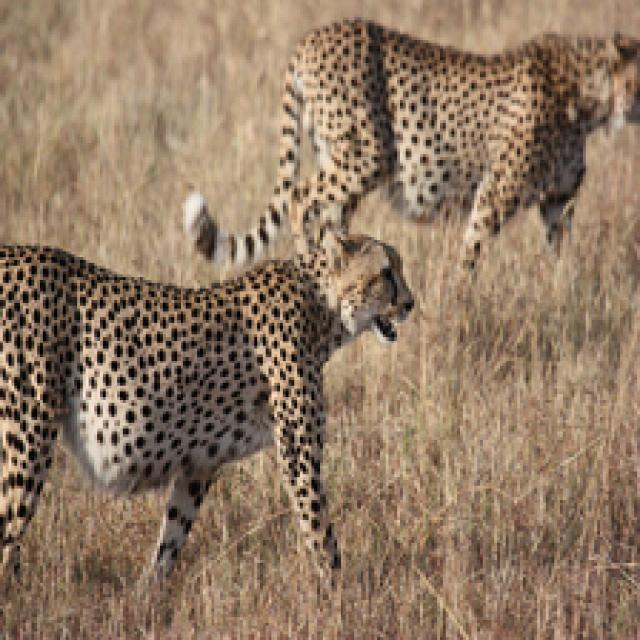cheetah: (2, 236, 434, 618), (178, 7, 640, 286)
